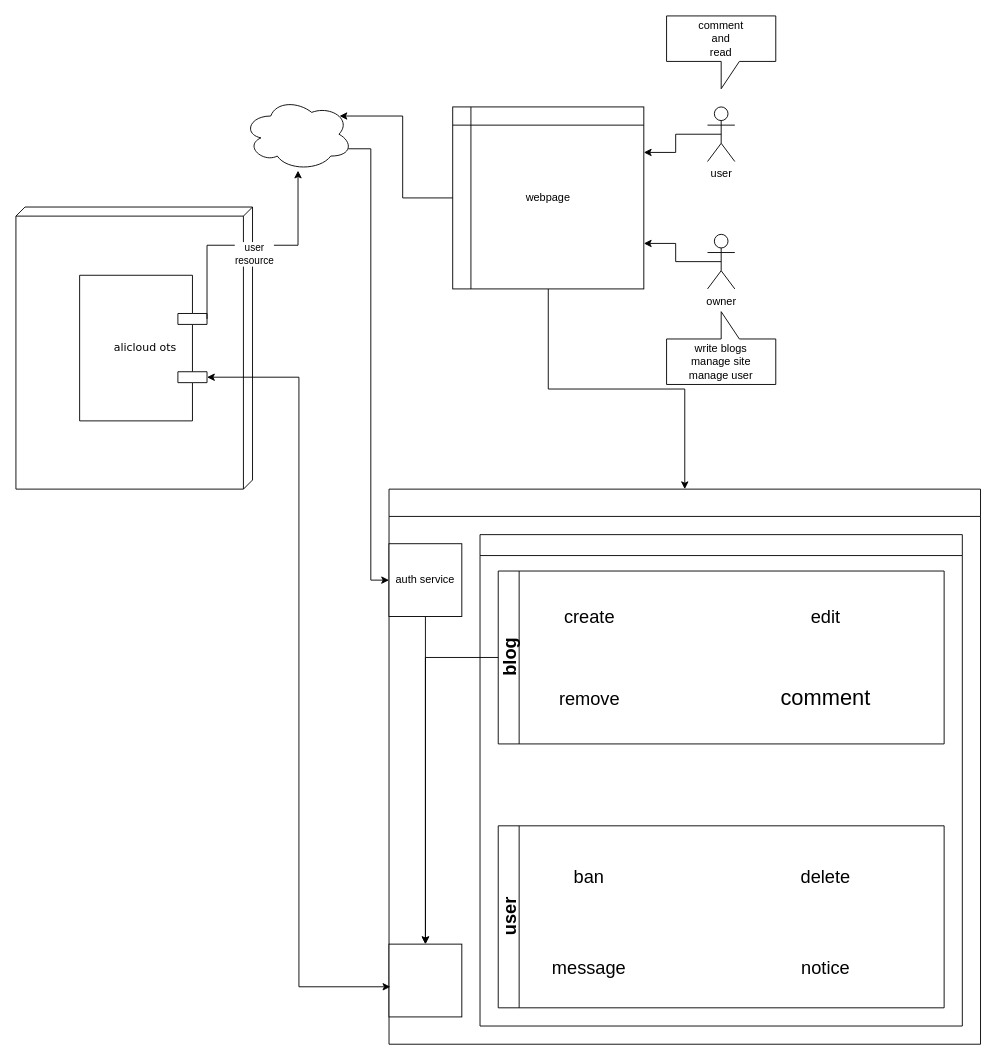
This 996x1060 diagram has some shape labels left out. The shapes that lost their labels are listed below. From the top down, each one's box as (x1, y1, x2, y2) in pixels, then its label:
(243, 97, 353, 171): github OAuth
(15, 206, 253, 489): storage
(388, 488, 981, 1044): funcs
(479, 534, 962, 1026): graphql
(388, 943, 462, 1017): database proxy
